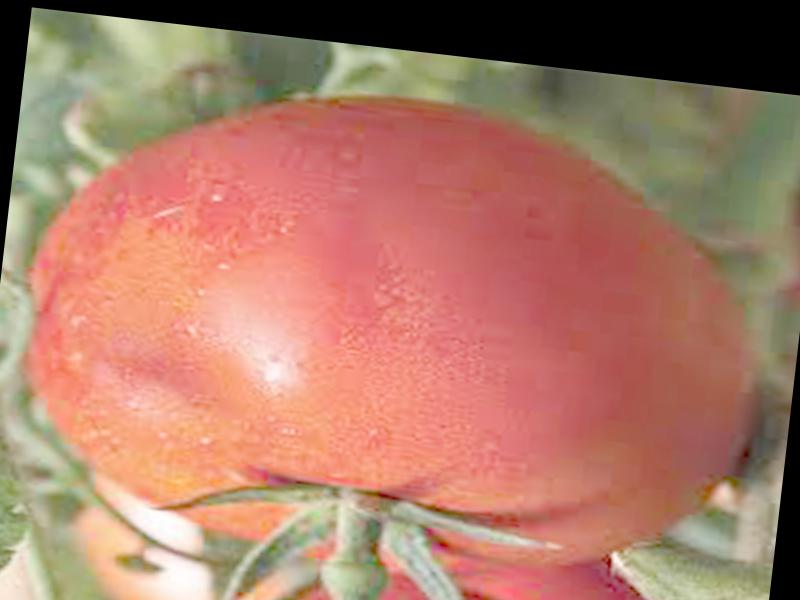Tomato: (4, 63, 777, 600)
